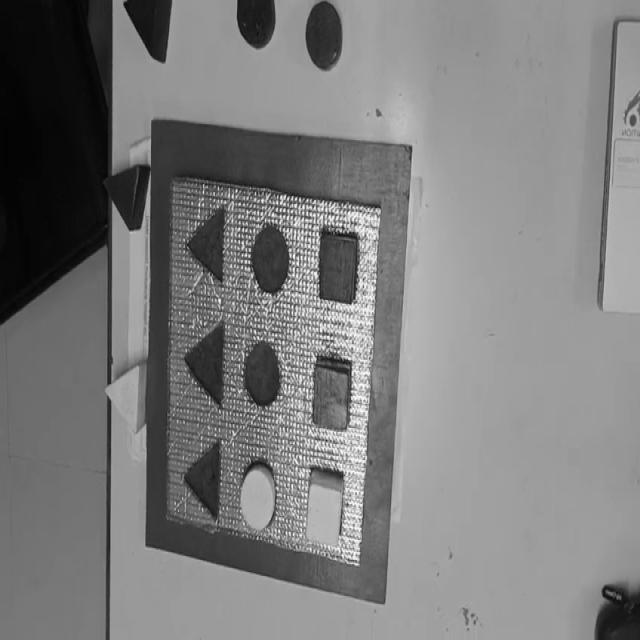bcircle: (237, 1, 275, 50)
bcube: (319, 232, 358, 307)
btriangle: (119, 0, 176, 62)
mtcircle: (243, 339, 283, 409), (252, 223, 290, 294)
mttriangle: (184, 319, 228, 410), (188, 204, 228, 284), (183, 440, 222, 520)
rcircle: (305, 1, 343, 70)
rcube: (312, 358, 352, 432)
rtriangle: (102, 164, 150, 232)
wb: (164, 170, 380, 571)
ycircle: (239, 461, 277, 532)
ycube: (304, 466, 344, 548)
ytriangle: (103, 360, 147, 434)
